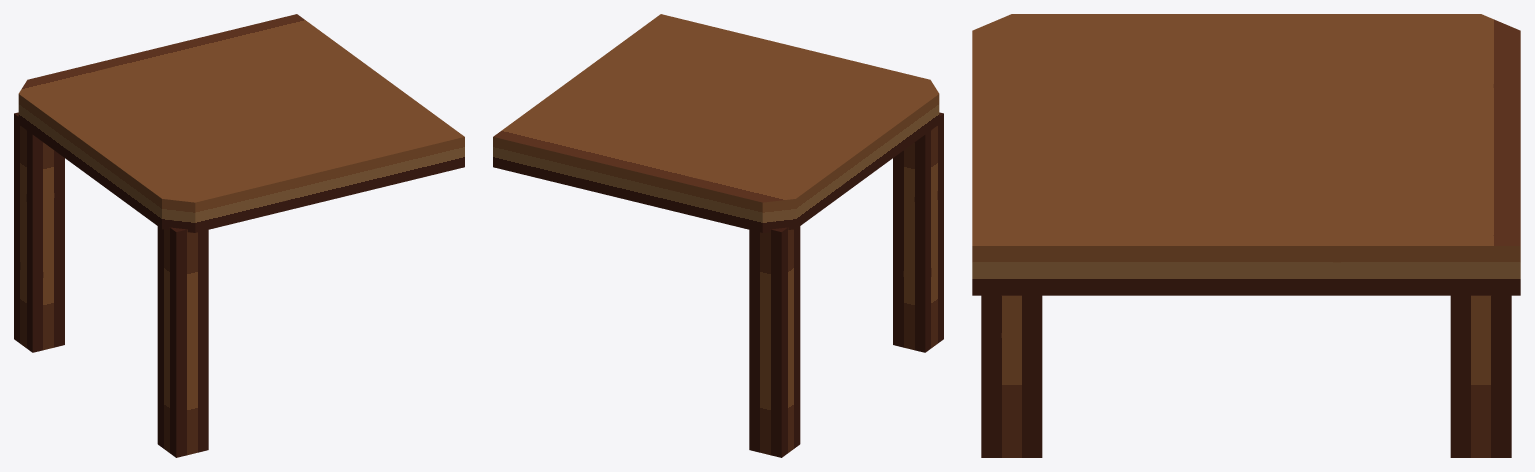
The model's file is wood_table_end_2legs.glb.
The picture shows the model from 3 angles, left to right: view 1: azimuth 30°, elevation 25°; view 2: azimuth 150°, elevation 25°; view 3: azimuth 270°, elevation 25°; orthographic projection. The views are drawn at different scales.
Visible parts, largest first — view 1: wood_table_end_2legs; view 2: wood_table_end_2legs; view 3: wood_table_end_2legs.
Part boxes in pixels (x1=…): wood_table_end_2legs: x1=14, y1=14, x2=464, y2=457; wood_table_end_2legs: x1=493, y1=14, x2=943, y2=457; wood_table_end_2legs: x1=972, y1=14, x2=1520, y2=457.
Size of the model in its own units: 0.9 by 0.75 by 0.9.
Materials: 1 (1 with a texture image).
